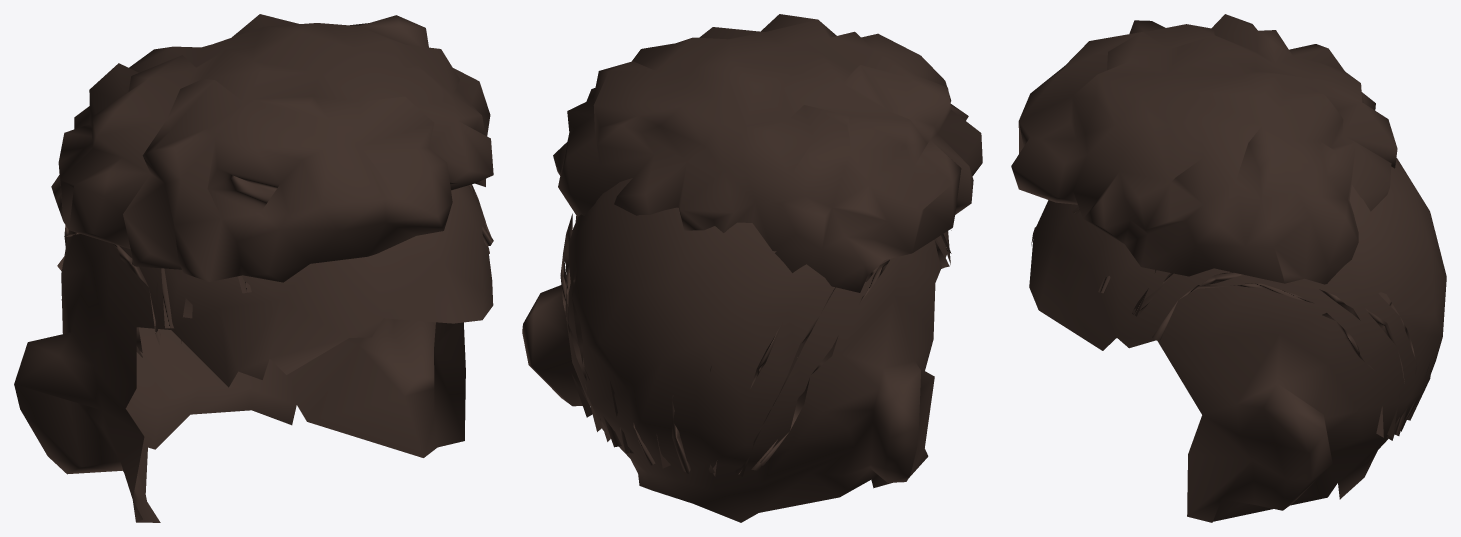
The model's file is curls.glb.
3 renders of one model, left to right at view 1: azimuth 30°, elevation 25°; view 2: azimuth 150°, elevation 25°; view 3: azimuth 270°, elevation 25°, orthographic. The views are drawn at different scales.
Parts seen in each view (by area): view 1: Hair, HairScalp, HairPulledRootStrands; view 2: HairScalp, Hair, HairPulledRootStrands; view 3: Hair, HairScalp, HairPulledRootStrands.
Part boxes in pixels (<box>): Hair: <box>51,14,493,282</box>; HairScalp: <box>14,185,493,522</box>; HairPulledRootStrands: <box>57,184,493,357</box>; HairScalp: <box>522,178,950,522</box>; Hair: <box>553,14,982,292</box>; HairPulledRootStrands: <box>560,213,951,476</box>; Hair: <box>1011,14,1397,284</box>; HairScalp: <box>1029,158,1446,522</box>; HairPulledRootStrands: <box>1072,206,1432,440</box>.
Bounding box in the file's own units: 0.459 × 0.4453 × 0.4324.
